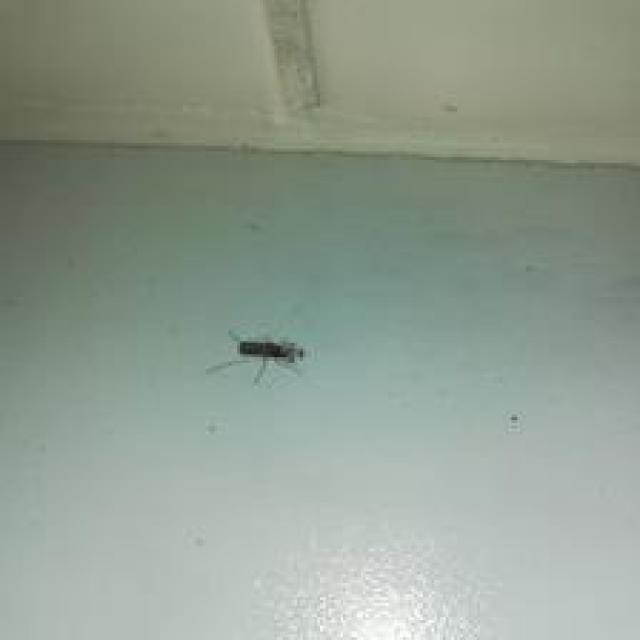Culex: (204, 328, 307, 386)
